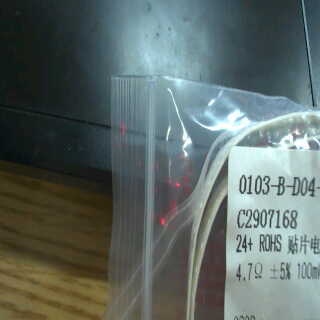4.7R: (233, 260, 265, 287)
